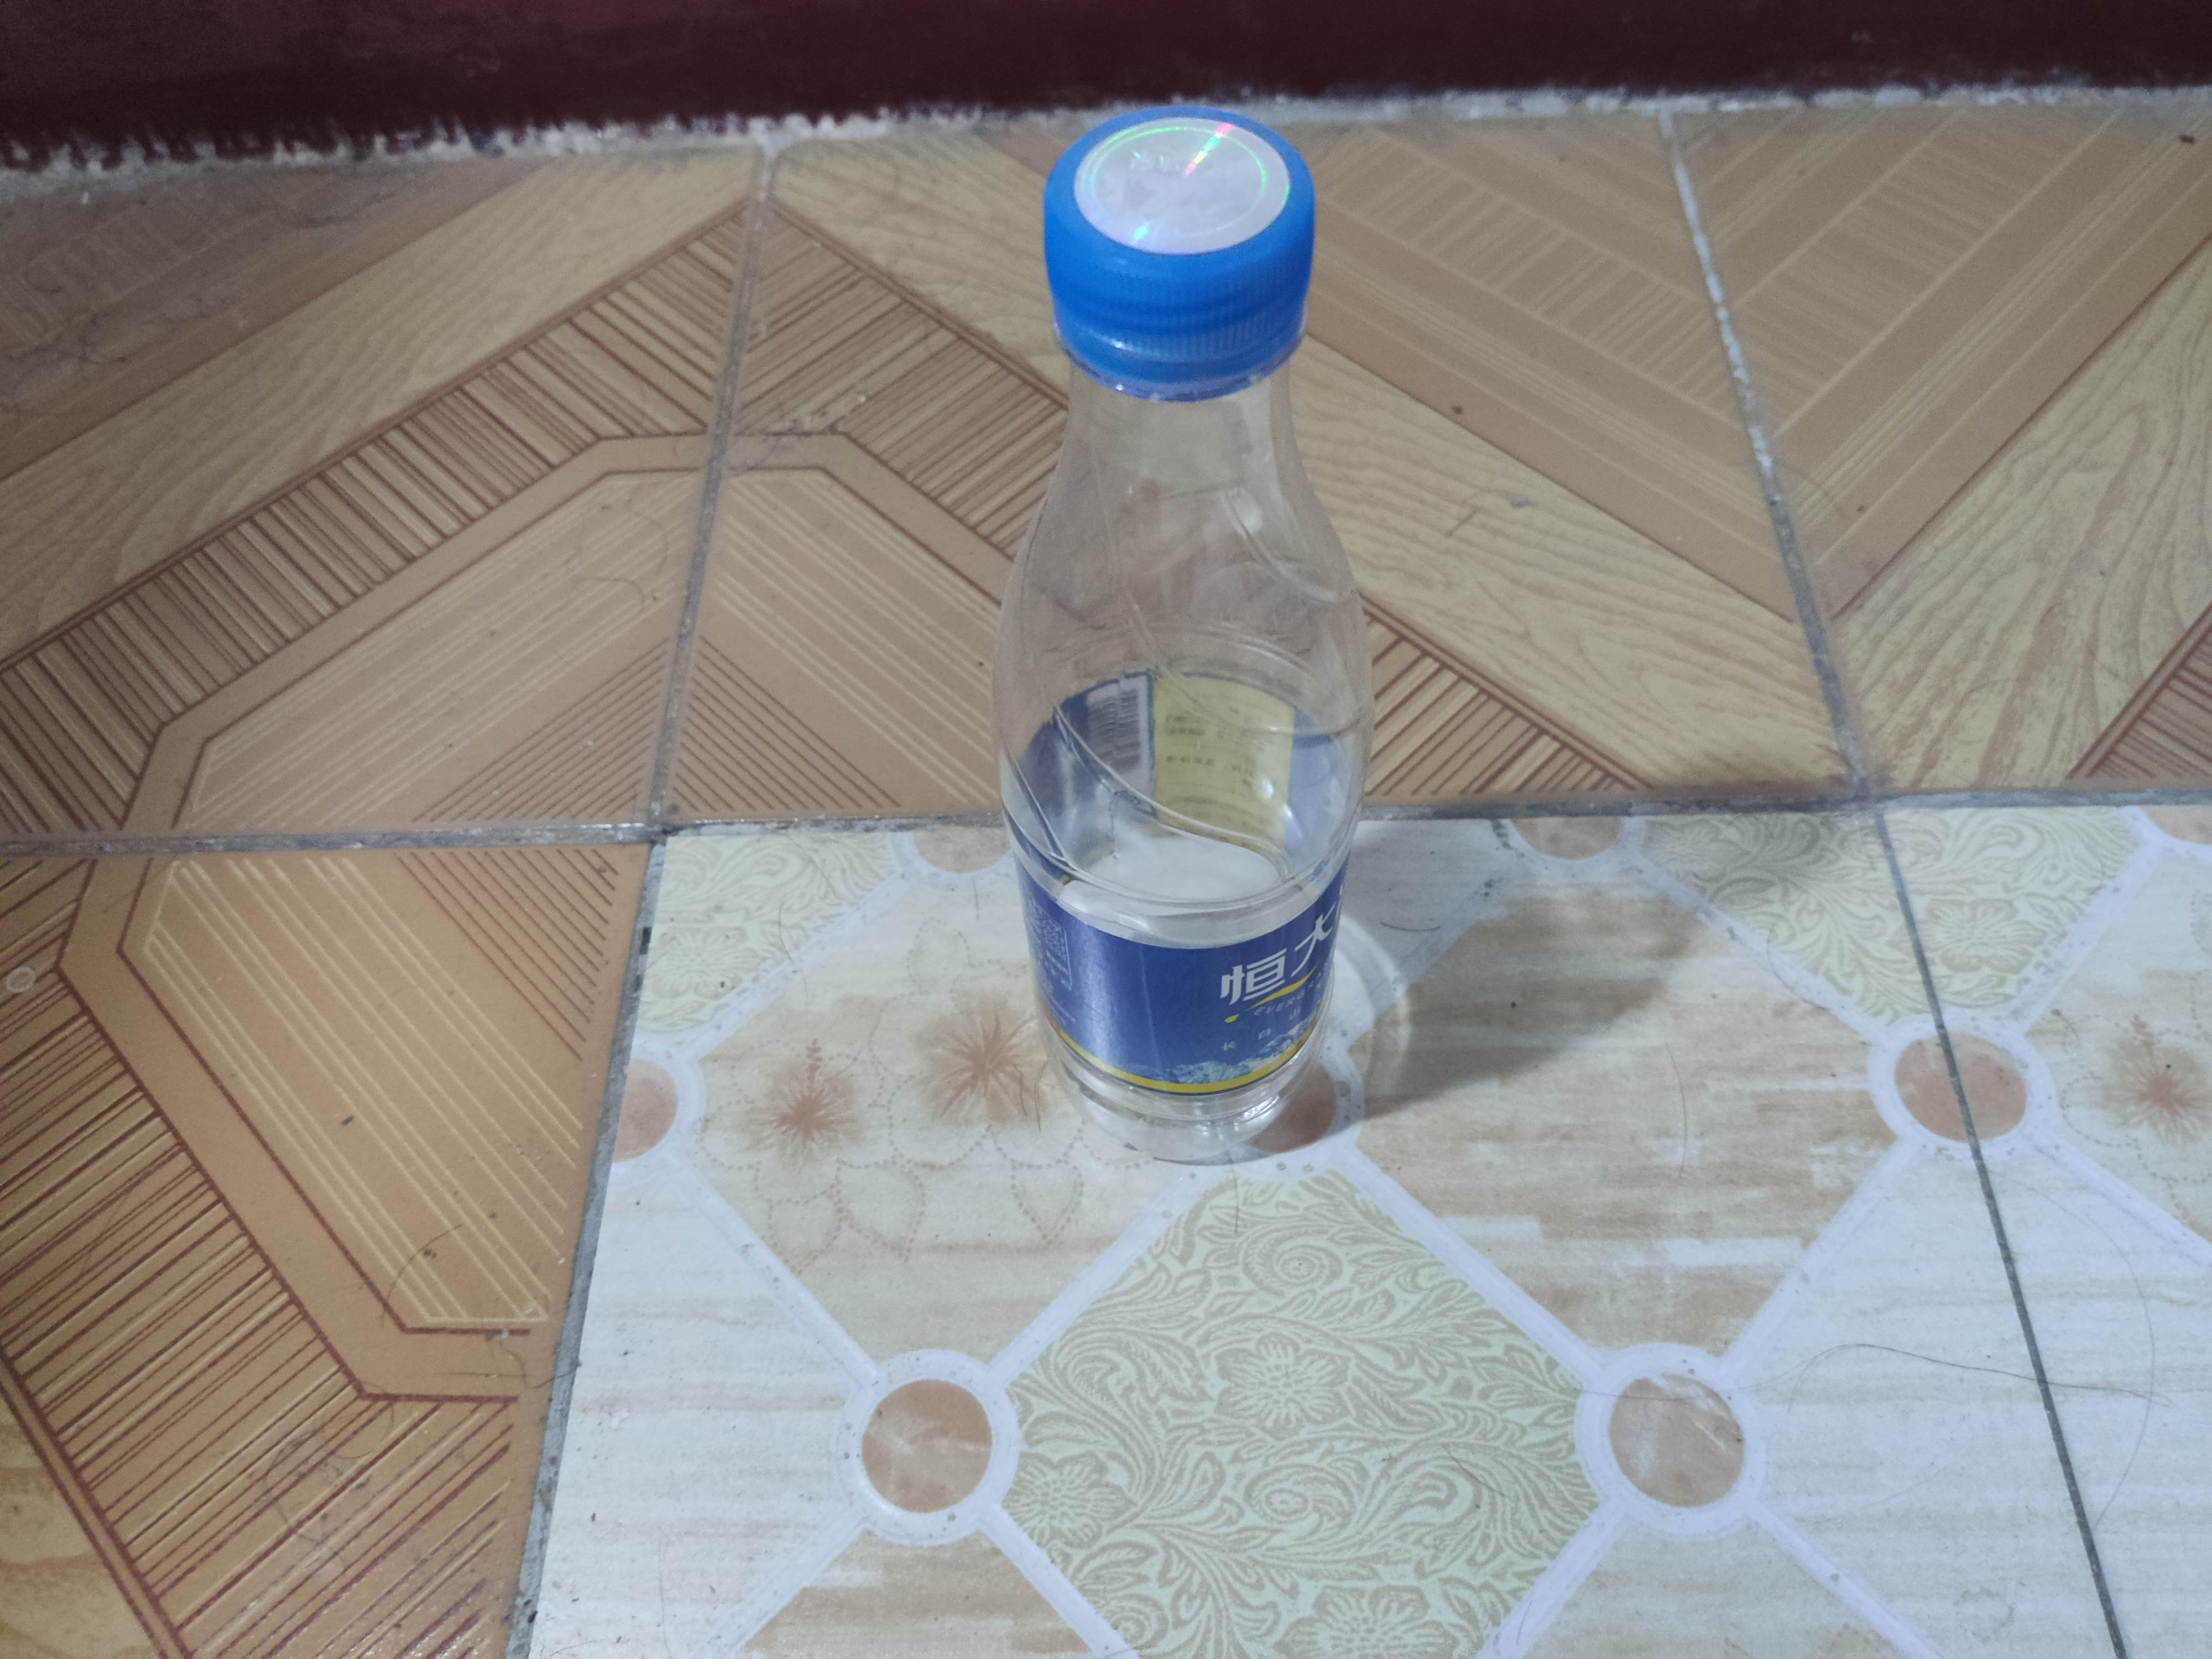Plastic Bottle: (991, 99, 1383, 1173)
